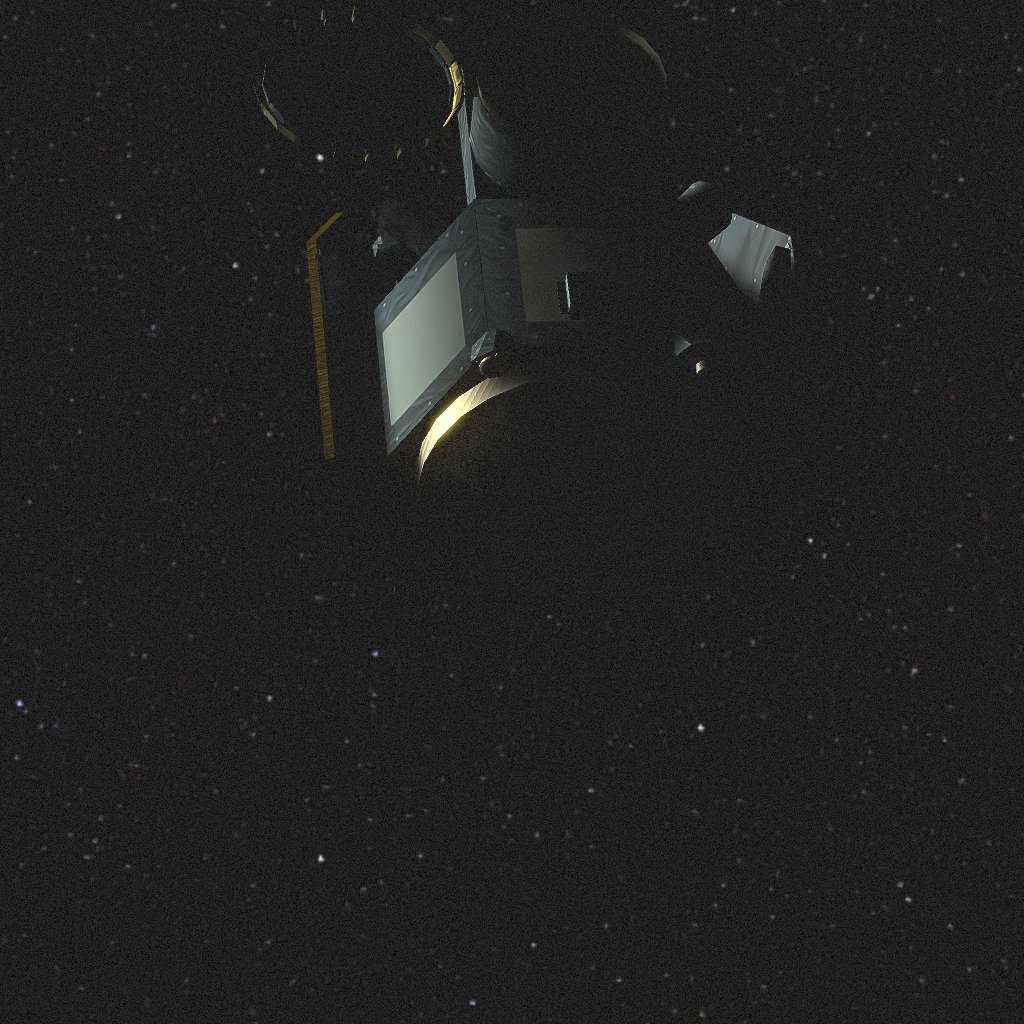cheops: (252, 0, 833, 596)
